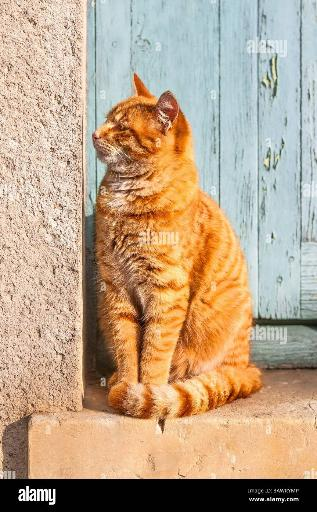cat_sitting: (93, 73, 262, 419)
